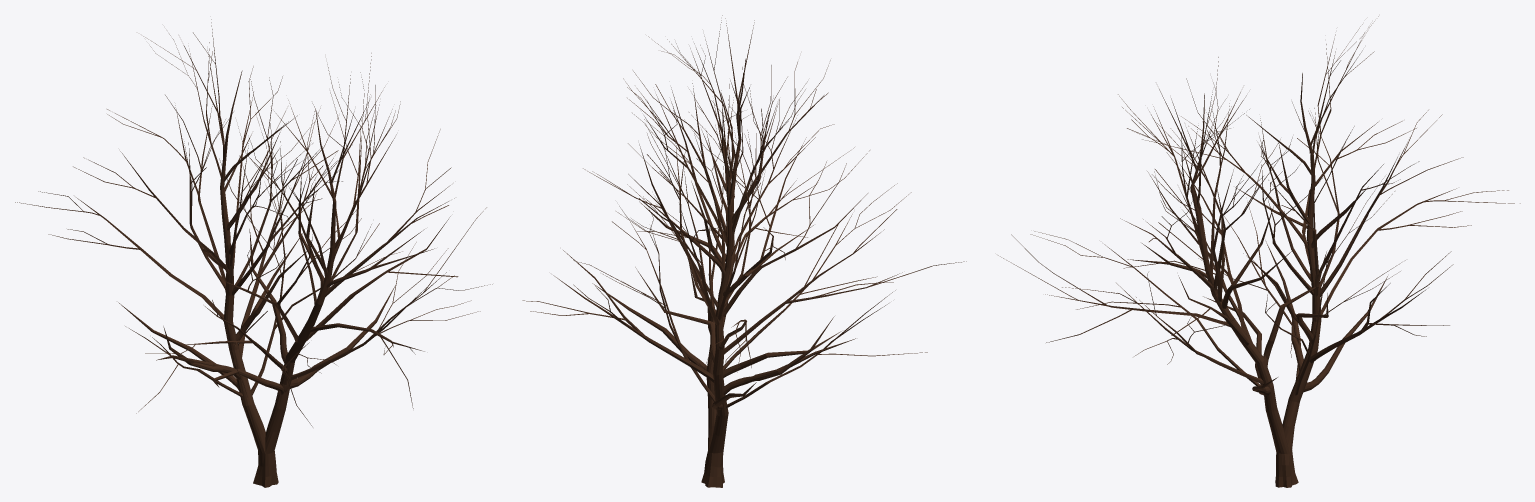
The model's file is Dead_Tree_04.fbx.
3 renders of one model, left to right at view 1: azimuth 30°, elevation 25°; view 2: azimuth 150°, elevation 25°; view 3: azimuth 270°, elevation 25°, orthographic.
Parts seen in each view (by area): view 1: SM_Hometown_Tree_04.mo; view 2: SM_Hometown_Tree_04.mo; view 3: SM_Hometown_Tree_04.mo.
Part boxes in pixels (box(x1,y1,x2,y2)): SM_Hometown_Tree_04.mo: box(15, 19, 492, 487); SM_Hometown_Tree_04.mo: box(522, 15, 966, 487); SM_Hometown_Tree_04.mo: box(998, 16, 1520, 487).
Size of the model in its own units: 793 by 987 by 1064.
